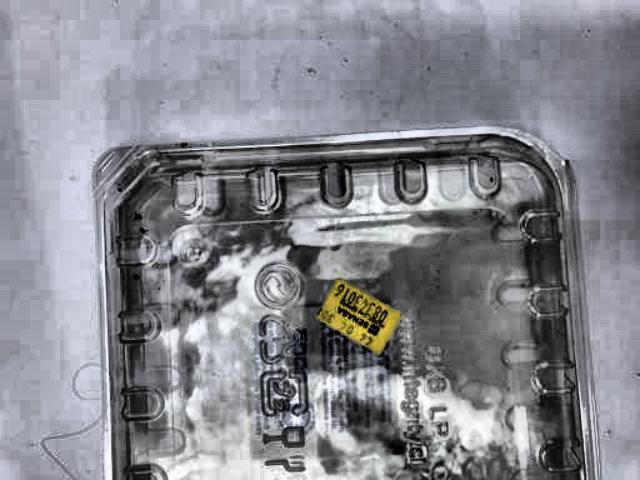Plastic: (79, 127, 597, 480)
